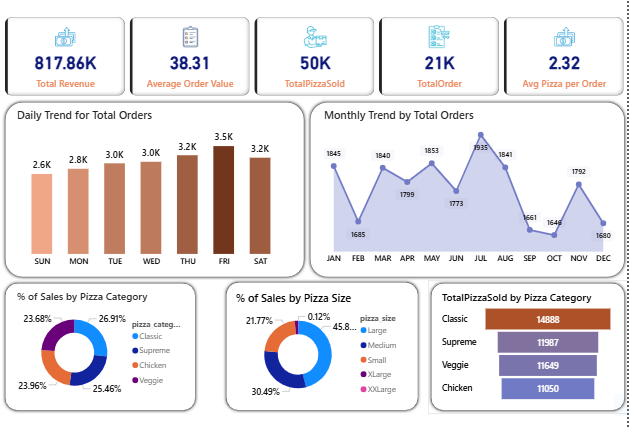

What the dashboard file says about the page in this screenshot:
{"tool":"powerbi","page":{"name":"Home","canvas":[1550,820],"ordinal":0},"visuals":[{"type":"cardVisual","fields":{"Data":["pizza_sales.Total Revenue","pizza_sales.Avg Order Value","pizza_sales.Total orders","pizza_sales.Total Pizzas Sold","pizza_sales.Avg Pizzas Per Order"]},"box":[375.7,110,1144.3,130],"z":0},{"type":"shape","box":[32,26,1488,70],"z":1000},{"type":"textbox","box":[605.7,32.9,340,57.1],"z":2000},{"type":"shape","box":[375.7,240,484.3,310],"z":3000},{"type":"columnChart","fields":{"Category":["pizza_sales.Order Day"],"Y":["pizza_sales.Total orders"]},"box":[390,264.3,445.7,260],"z":4000},{"type":"shape","box":[848.6,240,671.4,310],"z":5000},{"type":"areaChart","fields":{"Category":["pizza_sales.order_date.Variation.Date Hierarchy.Month"],"Y":["pizza_sales.Total orders"]},"box":[860,264.3,638.6,260],"z":6000},{"type":"shape","box":[375.7,550,360,270],"z":7000},{"type":"shape","box":[741.4,550,385.7,270],"z":8000},{"type":"shape","box":[1137.1,550,382.9,270],"z":9000},{"type":"pieChart","fields":{"Category":["pizza_sales.pizza_category"],"Y":["pizza_sales.Total Revenue"]},"box":[390,570,325.7,225.7],"z":10000},{"type":"pieChart","fields":{"Y":["pizza_sales.Total Revenue"],"Category":["pizza_sales.pizza_size"]},"box":[775.7,570,321.4,225.7],"z":11000},{"type":"funnel","fields":{"Category":["pizza_sales.pizza_category"],"Y":["pizza_sales.Total Pizzas Sold"]},"box":[1164.3,570,334.3,225.7],"z":12000},{"type":"slicer","fields":{"Values":["pizza_sales.order_date"]},"box":[17.1,134.3,344.3,150],"z":13000},{"type":"pageNavigator","box":[17.1,344.3,274.3,50],"z":13001},{"type":"pageNavigator","box":[17.1,424.3,274.3,50],"z":13002}]}

Visuals, with their boxes on the page's 1550x820 design canvas (x1, y1, x2, y2). These are canvas units, not pixel positions in the 629x429 screenshot, which may show the page scaled, cropped or inside an application window:
cardVisual - pizza_sales.Total Revenue x pizza_sales.Avg Order Value: region(376, 110, 1520, 240)
shape: region(32, 26, 1520, 96)
textbox: region(606, 33, 946, 90)
shape: region(376, 240, 860, 550)
columnChart - pizza_sales.Order Day x pizza_sales.Total orders: region(390, 264, 836, 524)
shape: region(849, 240, 1520, 550)
areaChart - pizza_sales.order_date.Variation.Date Hierarchy.Month x pizza_sales.Total orders: region(860, 264, 1499, 524)
shape: region(376, 550, 736, 820)
shape: region(741, 550, 1127, 820)
shape: region(1137, 550, 1520, 820)
pieChart - pizza_sales.pizza_category x pizza_sales.Total Revenue: region(390, 570, 716, 796)
pieChart - pizza_sales.Total Revenue x pizza_sales.pizza_size: region(776, 570, 1097, 796)
funnel - pizza_sales.pizza_category x pizza_sales.Total Pizzas Sold: region(1164, 570, 1499, 796)
slicer - pizza_sales.order_date: region(17, 134, 361, 284)
pageNavigator: region(17, 344, 291, 394)
pageNavigator: region(17, 424, 291, 474)
